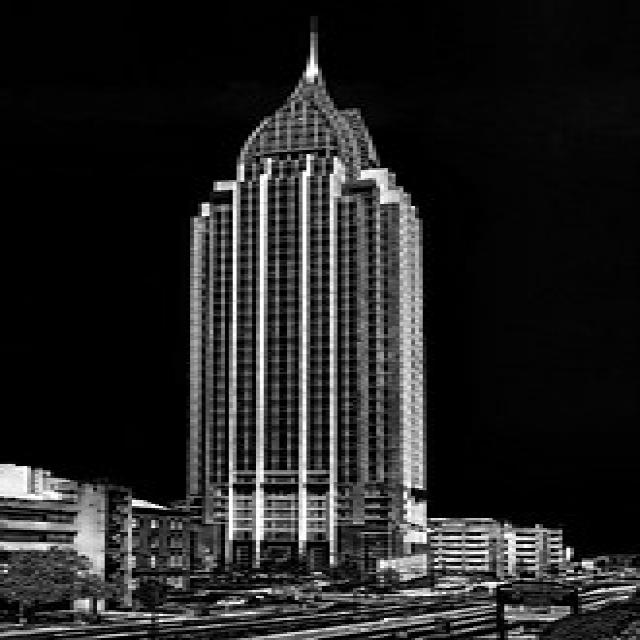Normal_building: (167, 73, 434, 589)
